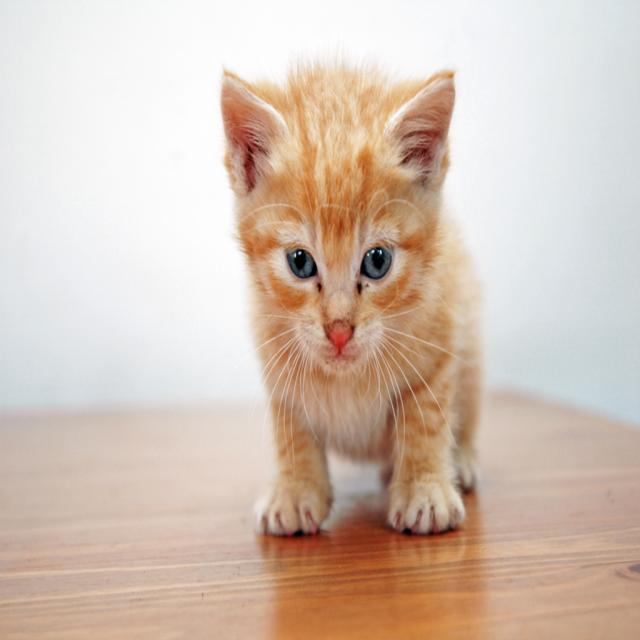Cat: (218, 38, 488, 534)
